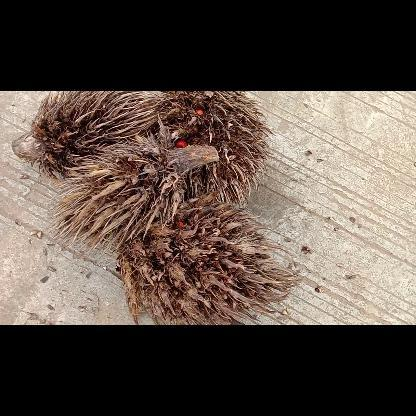Janjang kosong: (118, 196, 302, 324), (53, 125, 219, 255), (11, 91, 161, 183), (158, 90, 270, 208)
